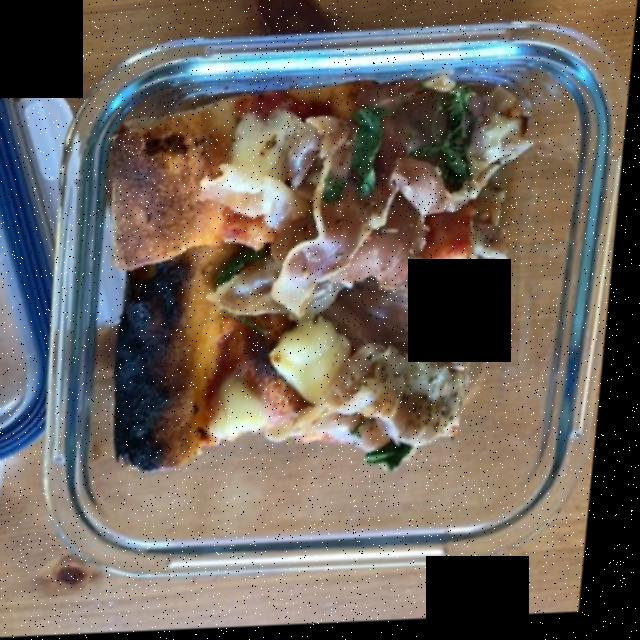ham-raw: (283, 84, 512, 448)
pizza-margherita-baked: (114, 87, 528, 472)
